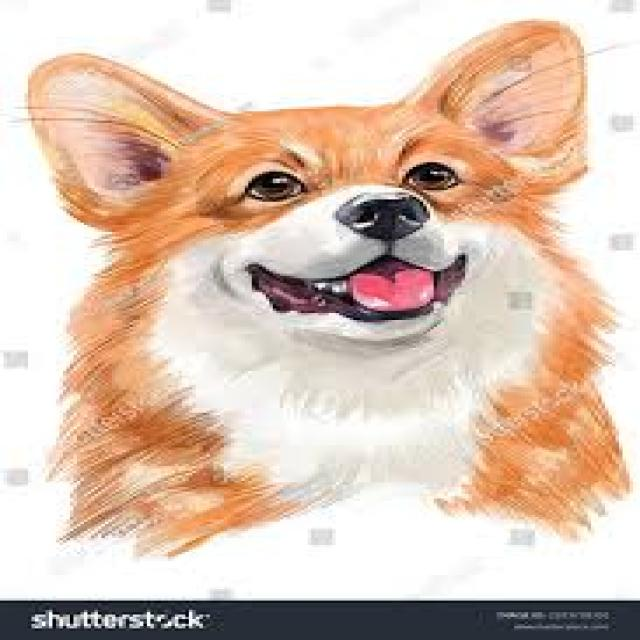CORGI: (15, 27, 640, 574)
